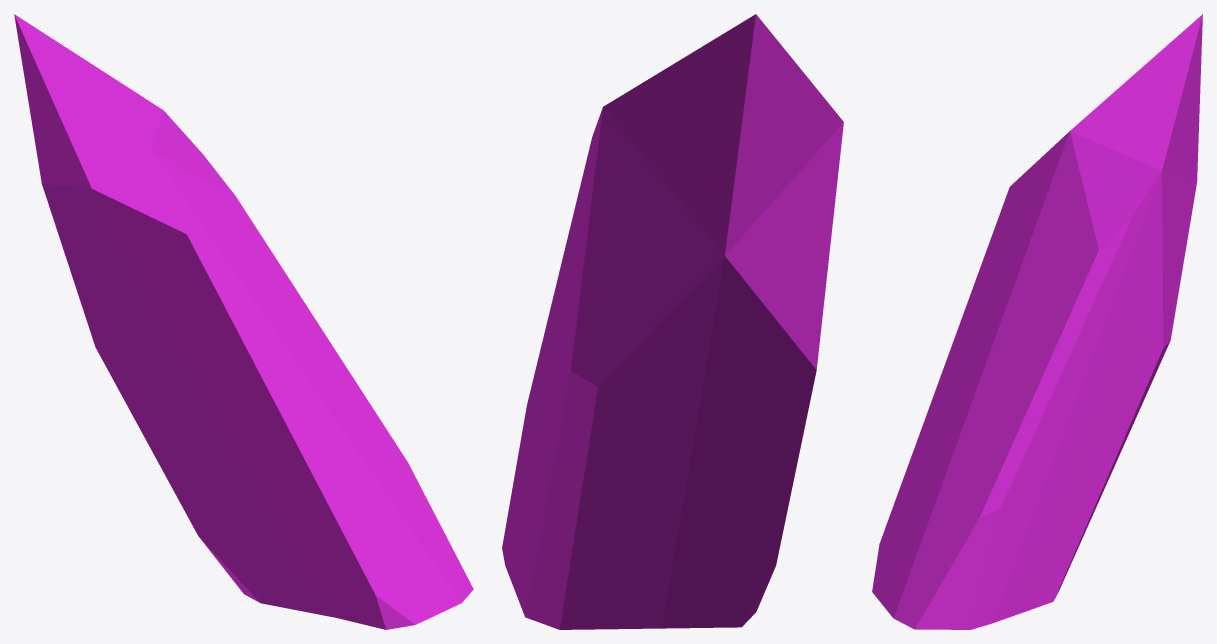
File: Boss Crystal8.fbx
3 views of the same model, side by side, from view 1: azimuth 30°, elevation 25°; view 2: azimuth 150°, elevation 25°; view 3: azimuth 270°, elevation 25° (orthographic). The views are drawn at different scales.
Visible parts, largest first — view 1: boss crystal.008; view 2: boss crystal.008; view 3: boss crystal.008.
Part boxes in pixels (box(x1,y1,x2,y2)): boss crystal.008: box(14, 14, 473, 629); boss crystal.008: box(502, 14, 843, 629); boss crystal.008: box(872, 14, 1202, 629).
Bounding box in the file's own units: 0.973 × 1.64 × 1.02.
